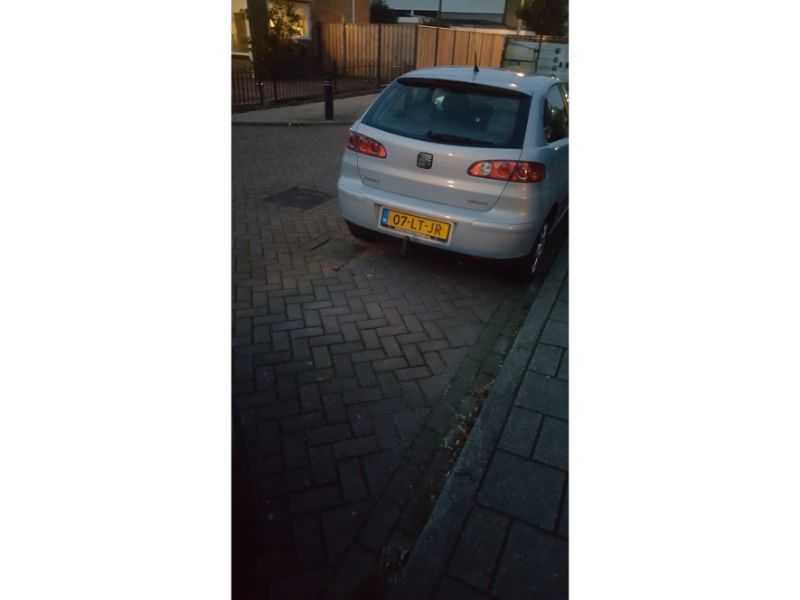kenteken: (378, 207, 452, 242)
